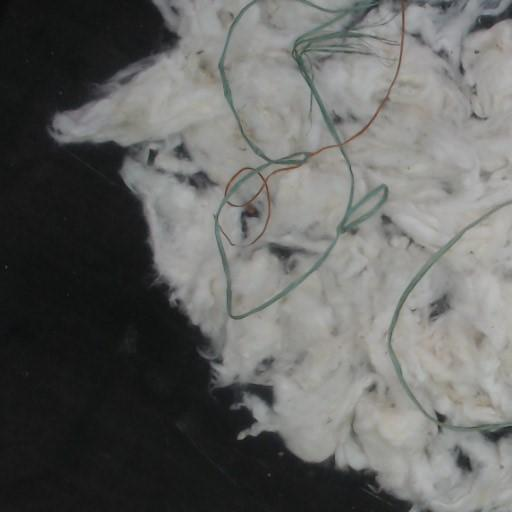cotton: (50, 0, 511, 511), (227, 149, 349, 313)
thread: (213, 0, 406, 319), (387, 198, 511, 427)
